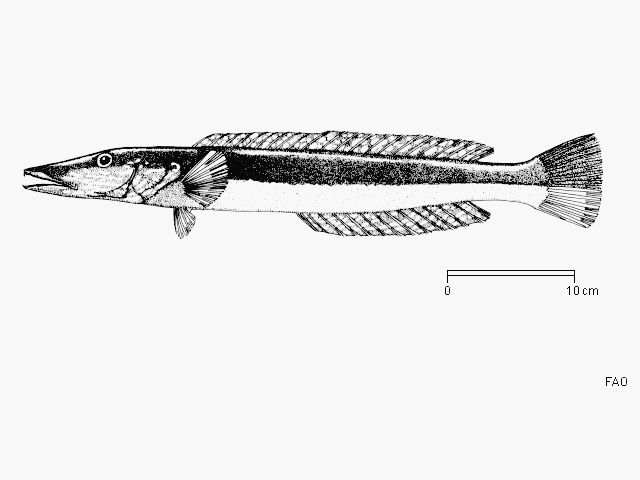fish: (22, 132, 602, 239)
